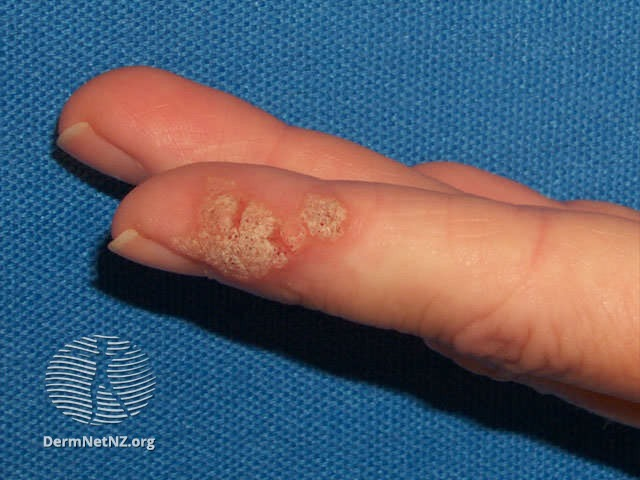Warts: (190, 185, 295, 295), (297, 184, 352, 247)
